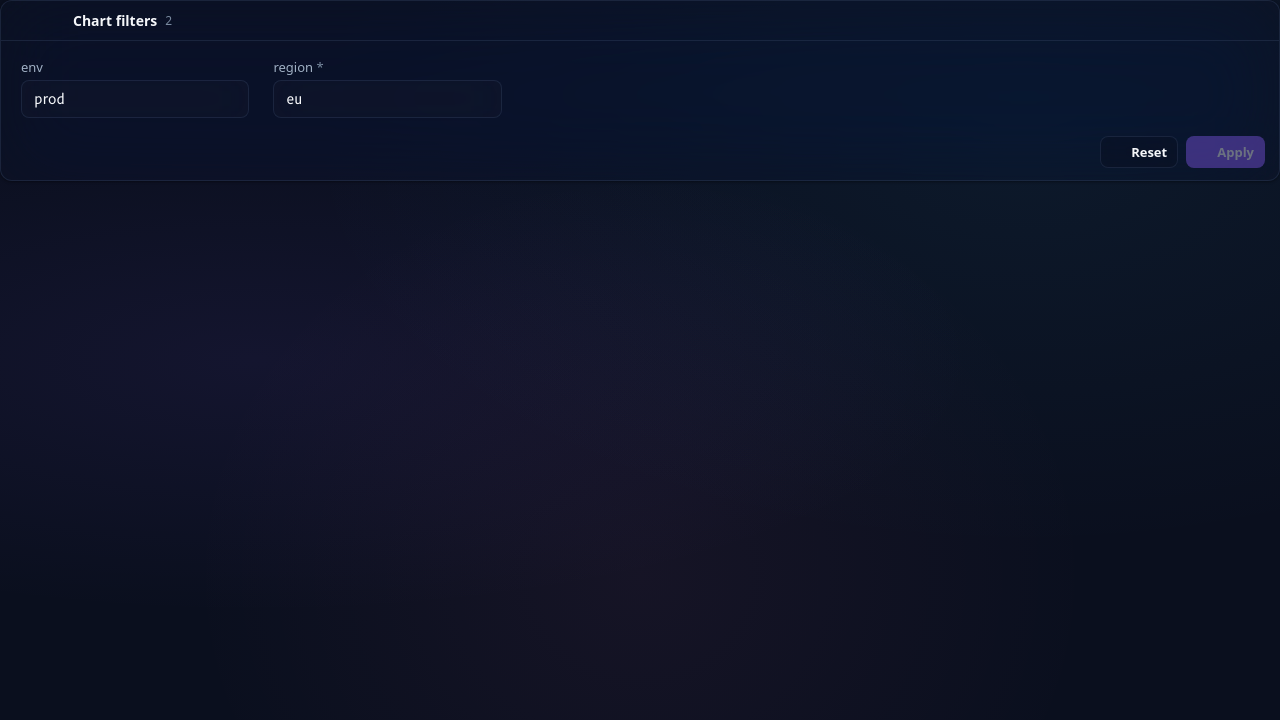
Apply gates every re-run › enables once a control changes, and does not re-run before then
The width and height of the screenshot is (1280, 720).
Replace the text in the field labelled "region *" with "us" at coordinates (388, 99), box [273, 80, 502, 118]
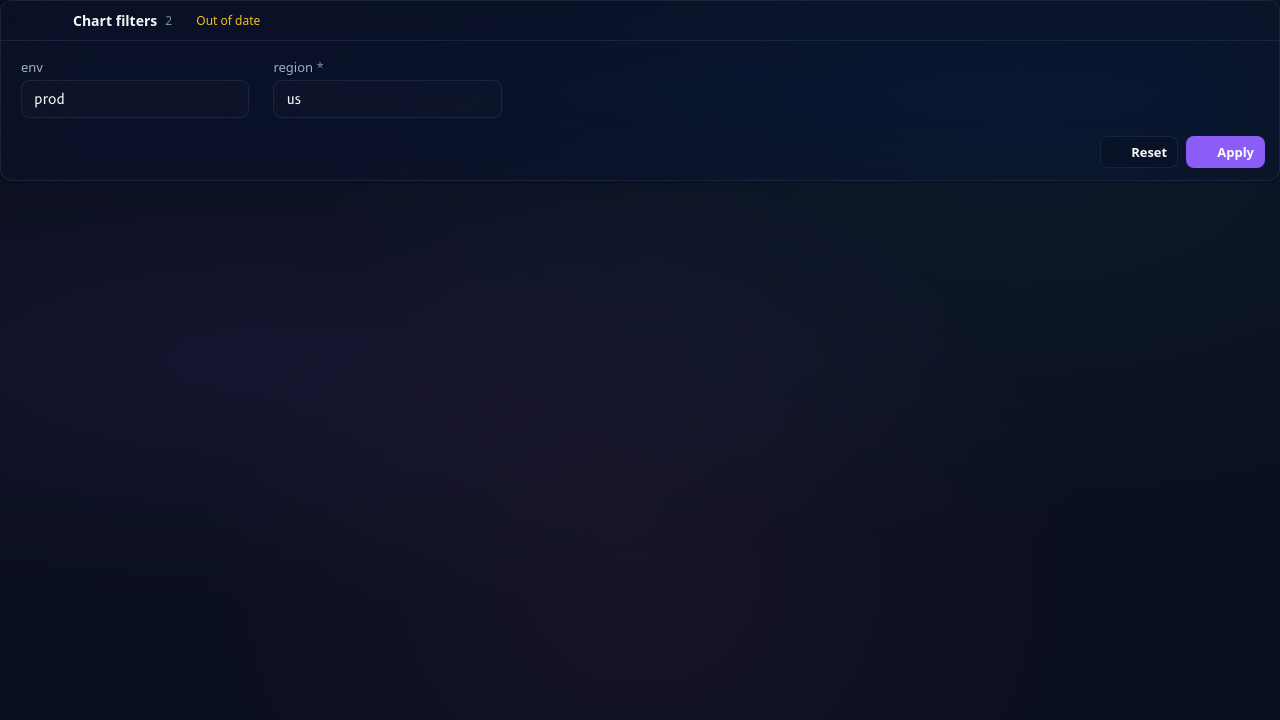
Expected: the button "Apply" is enabled, [1186, 136, 1265, 168]
